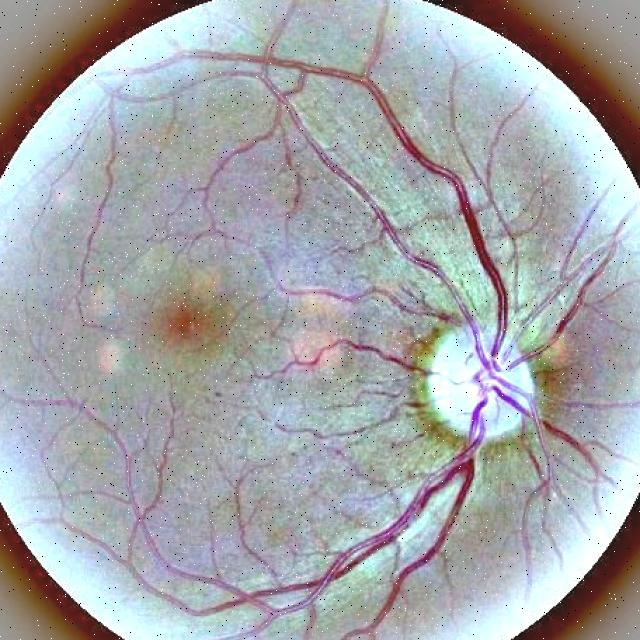Macula: (154, 292, 232, 352)
Nerves: (250, 167, 533, 629), (372, 91, 508, 373), (469, 408, 483, 446)
Optic Disk: (415, 323, 533, 439)
